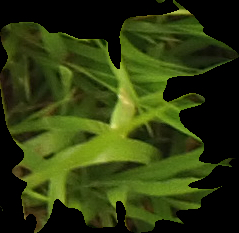grass: (1, 1, 237, 232)
